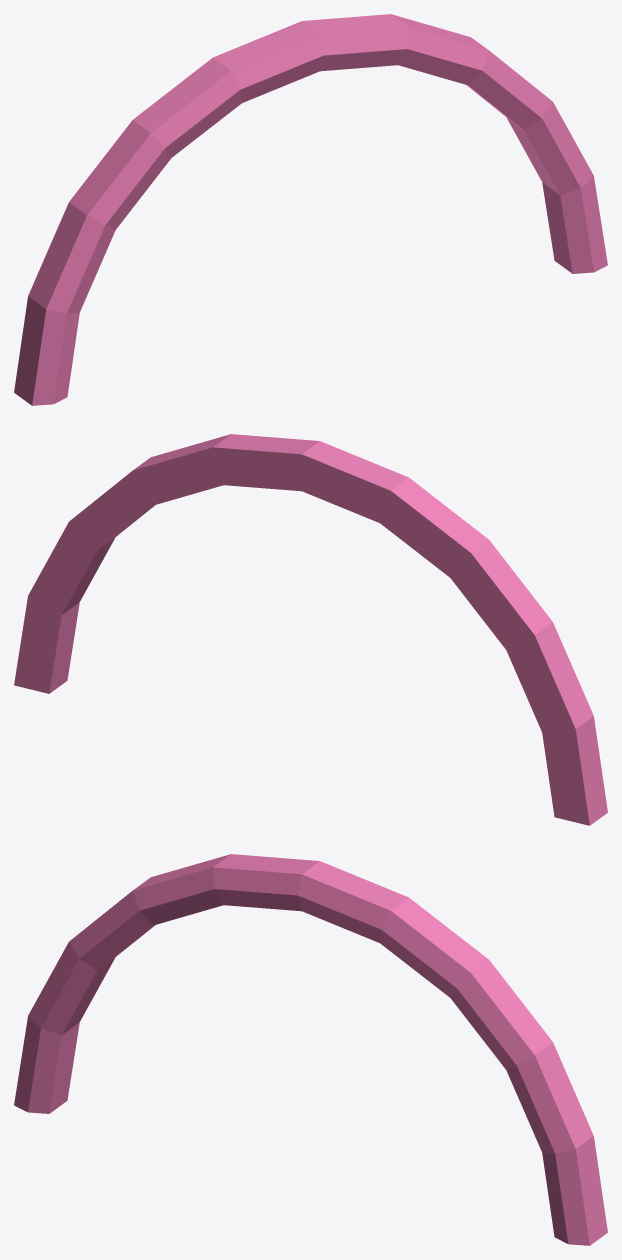
3 renders of one model, top to bottom at view 1: azimuth 30°, elevation 25°; view 2: azimuth 150°, elevation 25°; view 3: azimuth 330°, elevation 25°, orthographic.
Parts seen in each view (by area): view 1: 独立纸色带_1_RainbowPink.001; view 2: 独立纸色带_1_RainbowPink.001; view 3: 独立纸色带_1_RainbowPink.001.
Part boxes in pixels (bbox=[...]): 独立纸色带_1_RainbowPink.001: bbox=[14, 14, 607, 405]; 独立纸色带_1_RainbowPink.001: bbox=[14, 434, 607, 825]; 独立纸色带_1_RainbowPink.001: bbox=[14, 854, 607, 1245].
Bounding box in the file's own units: 2.2 × 1.1 × 0.145.
